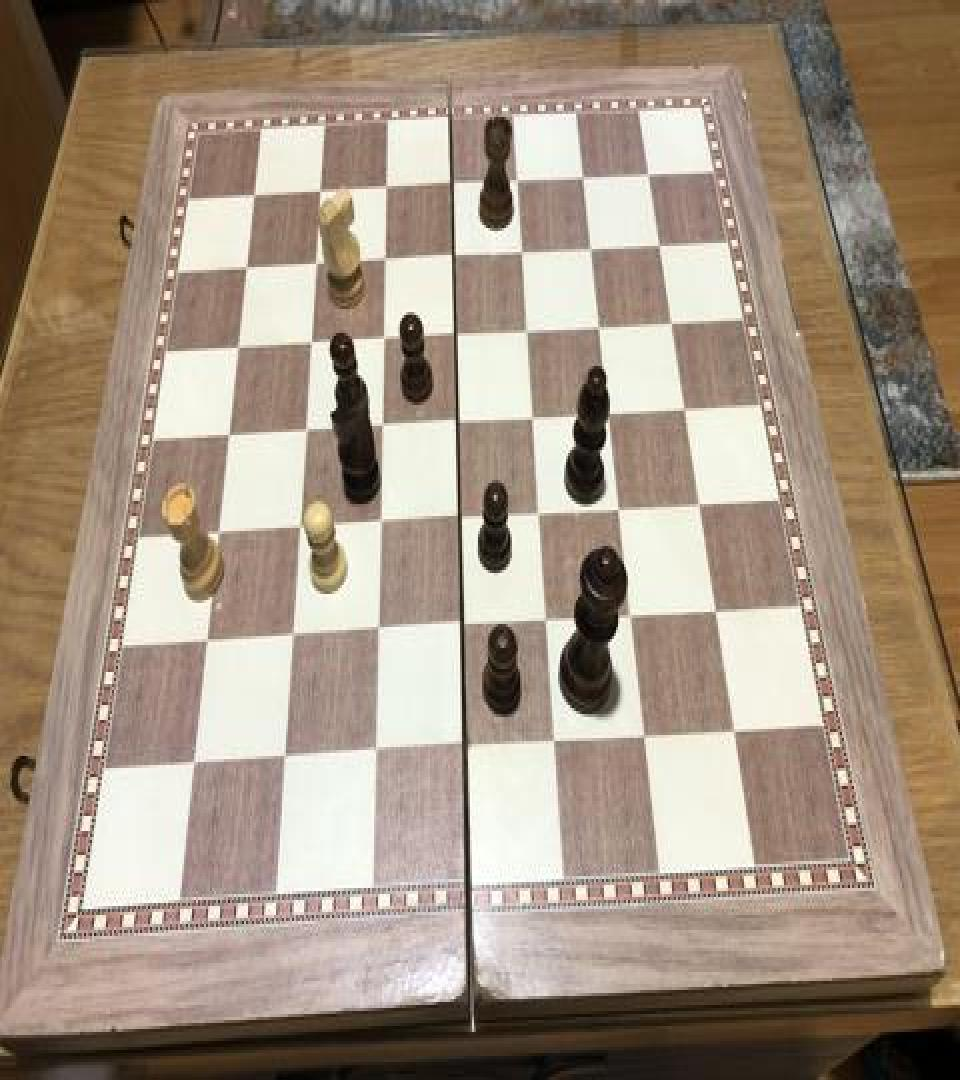xcorner: (706, 595, 730, 632), (622, 601, 646, 638), (369, 616, 393, 653), (284, 622, 308, 659), (546, 727, 570, 764), (639, 162, 663, 198), (574, 165, 598, 201), (509, 168, 533, 204), (378, 176, 402, 212), (312, 178, 336, 214), (247, 183, 271, 219), (650, 232, 674, 268), (582, 236, 606, 272), (513, 240, 537, 276), (445, 243, 469, 279), (377, 248, 401, 284), (308, 250, 332, 286), (239, 255, 263, 291), (662, 309, 686, 345), (590, 314, 614, 350), (519, 318, 543, 354), (447, 321, 471, 357), (375, 326, 399, 362), (303, 330, 327, 366), (230, 333, 254, 369), (675, 394, 699, 430), (600, 399, 624, 435), (524, 404, 548, 440), (449, 408, 473, 444), (297, 417, 321, 453), (221, 422, 245, 458), (690, 490, 714, 526), (610, 495, 634, 531), (531, 500, 555, 536), (451, 504, 475, 540), (371, 508, 395, 544), (291, 513, 315, 549), (210, 519, 234, 555), (538, 606, 562, 642), (454, 612, 478, 648), (198, 627, 222, 663), (725, 716, 749, 752), (636, 722, 660, 758), (456, 732, 480, 768), (366, 738, 390, 774), (276, 744, 300, 780), (185, 750, 209, 786), (443, 173, 467, 208), (373, 413, 397, 448)
